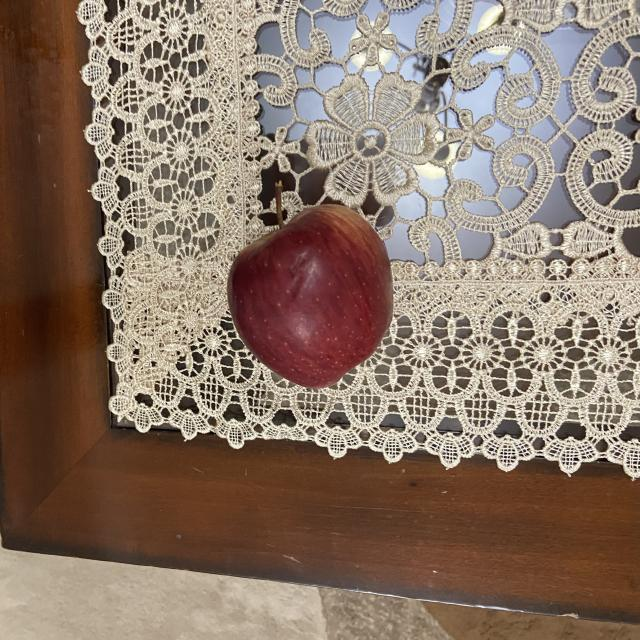apple: (227, 174, 396, 389)
